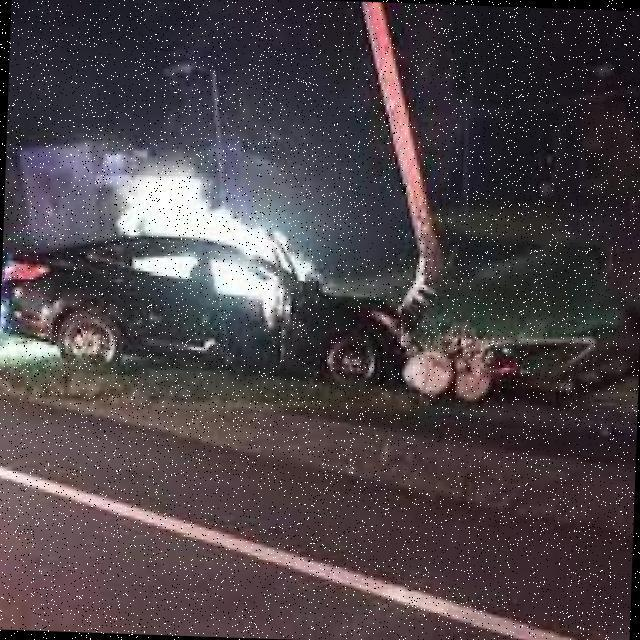accident: (0, 221, 416, 390)
